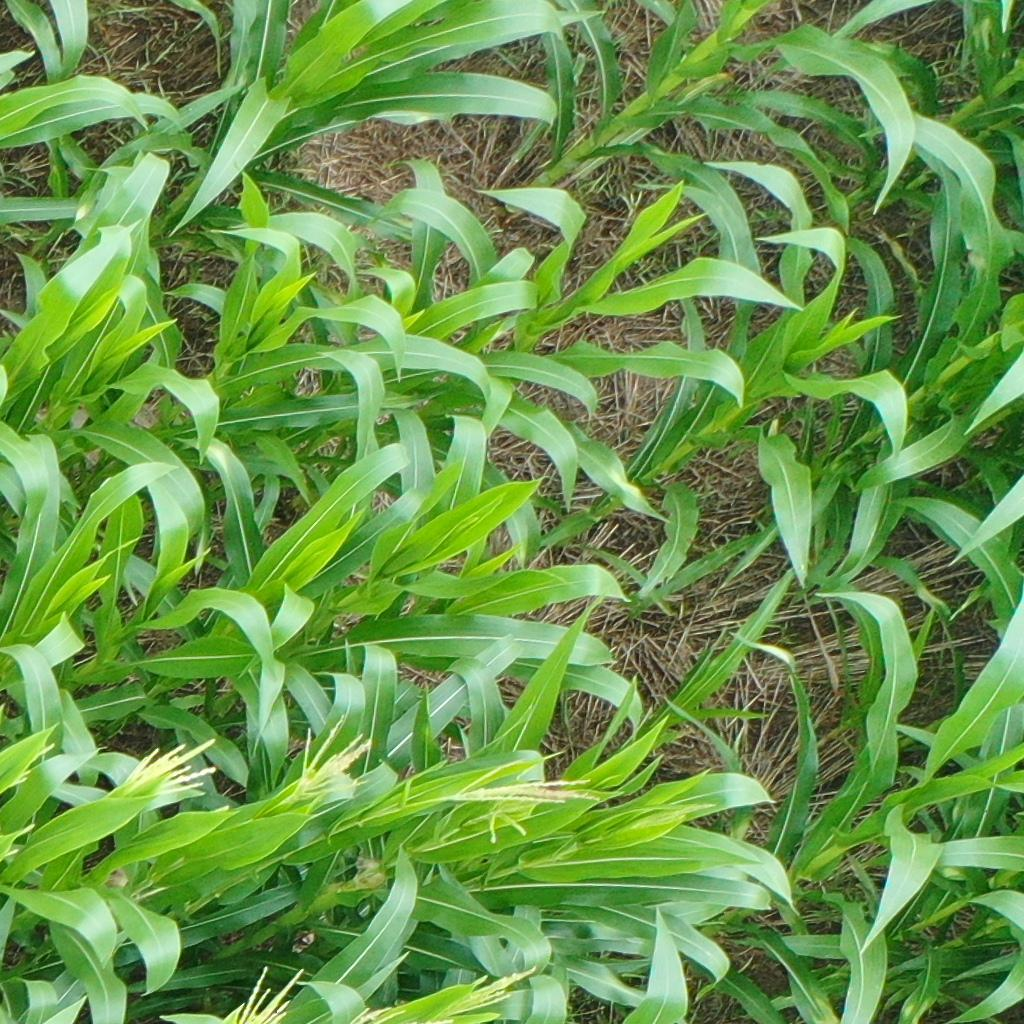Tassel: (448, 754, 600, 842), (282, 712, 378, 810), (106, 736, 219, 812), (230, 961, 305, 1024), (446, 965, 537, 1015), (5, 741, 57, 788), (348, 1007, 455, 1024), (5, 822, 38, 866)
